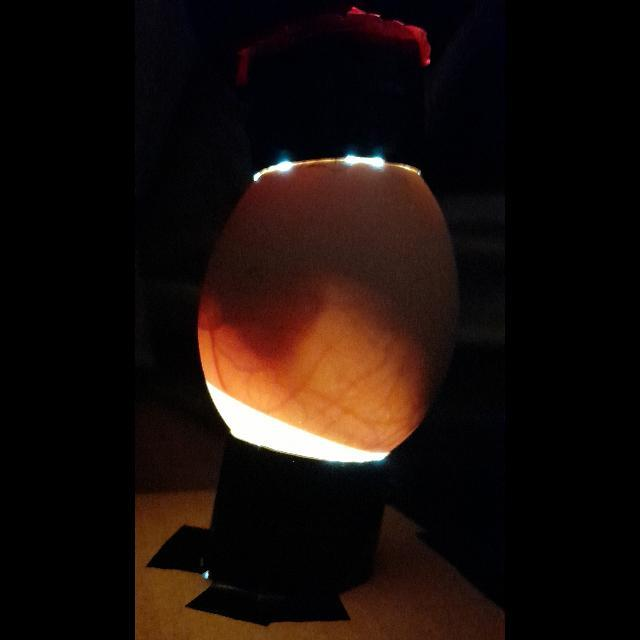Fertile: (194, 151, 468, 469)
